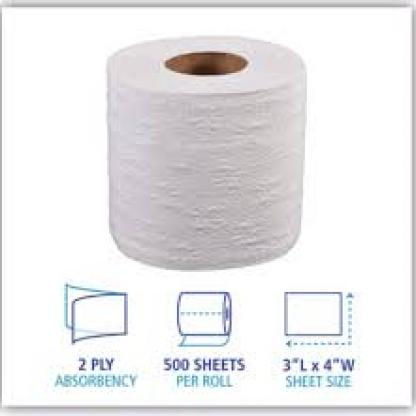tissue: (98, 34, 318, 272)
